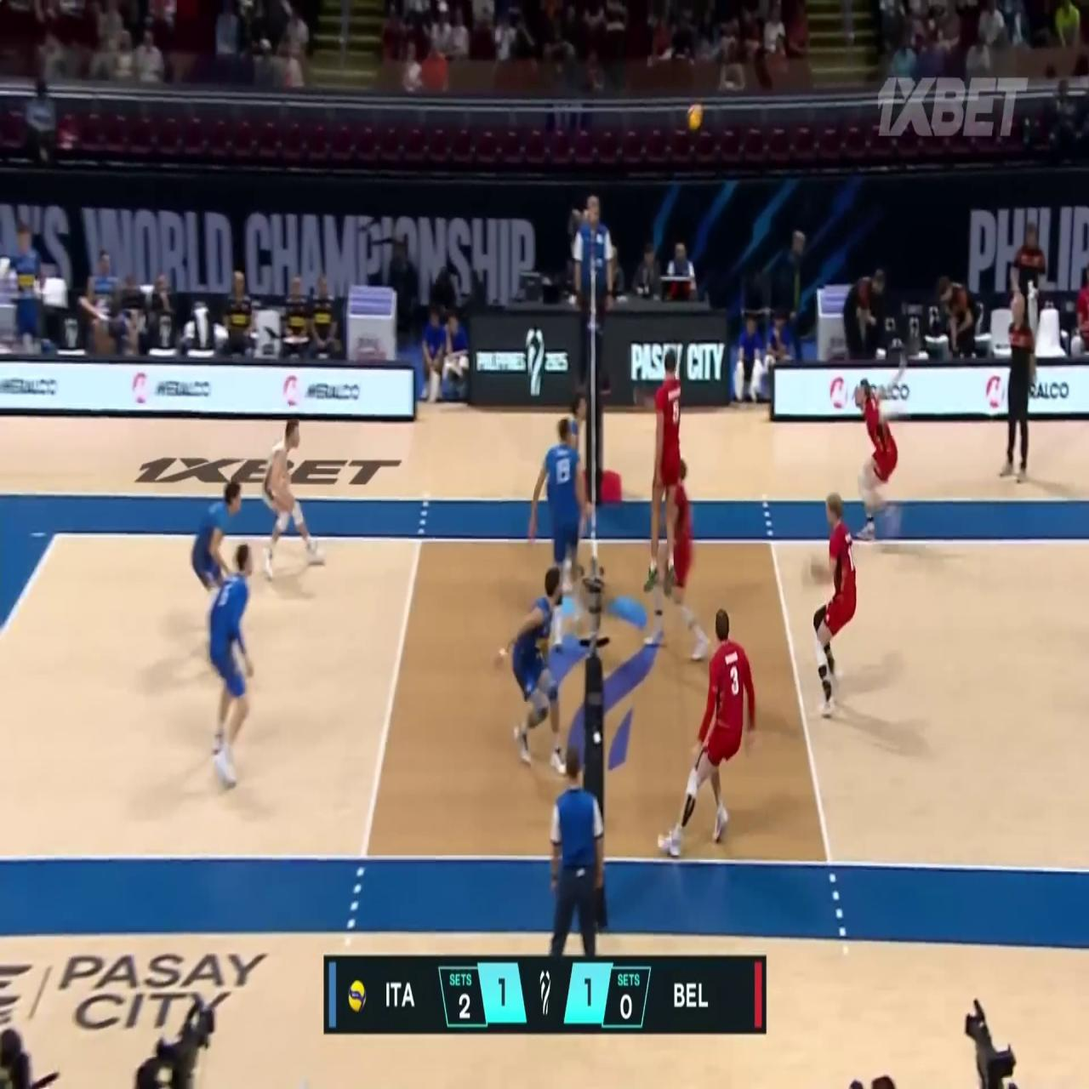ball: (687, 103, 702, 130)
